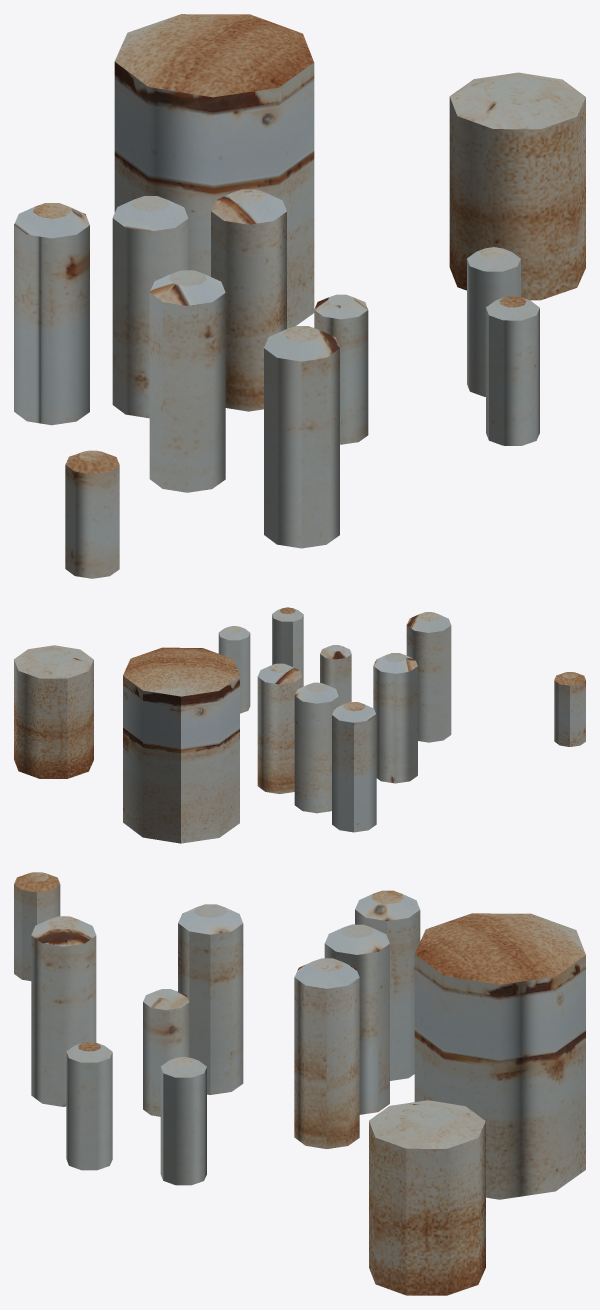
The model's file is youguan_01_08.fbx.
3 renders of one model, top to bottom at view 1: azimuth 30°, elevation 25°; view 2: azimuth 150°, elevation 25°; view 3: azimuth 270°, elevation 25°, orthographic. The views are drawn at different scales.
Visible parts, largest first — view 1: Youguan_01_08; view 2: Youguan_01_08; view 3: Youguan_01_08.
Part boxes in pixels (bbox=[...]): Youguan_01_08: bbox=[14, 14, 585, 578]; Youguan_01_08: bbox=[14, 607, 585, 843]; Youguan_01_08: bbox=[14, 872, 585, 1295].
Bounding box in the file's own units: 3579 × 1244 × 2825.
